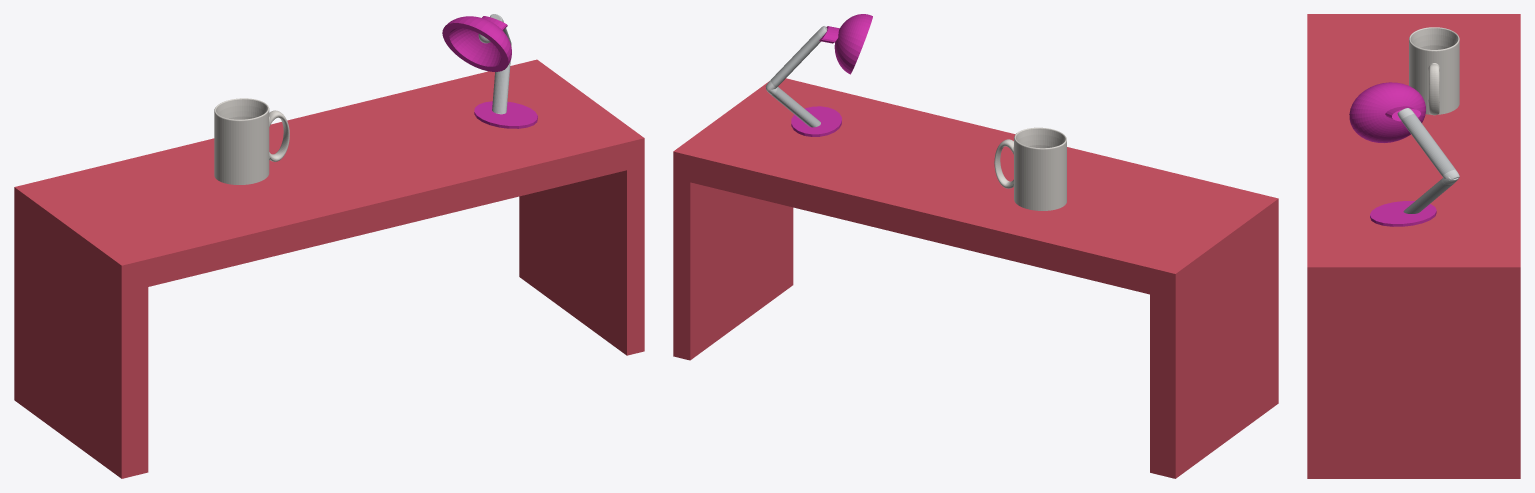
File: Shiny Lappi.glb
The picture shows the model from 3 angles, left to right: view 1: azimuth 30°, elevation 25°; view 2: azimuth 150°, elevation 25°; view 3: azimuth 270°, elevation 25°; orthographic projection. The views are drawn at different scales.
Parts seen in each view (by area): view 1: Mesh_Mesh_head_geo.001_lambert2SG.001; view 2: Mesh_Mesh_head_geo.001_lambert2SG.001; view 3: Mesh_Mesh_head_geo.001_lambert2SG.001.
Boxes of the visible parts, x1,y1,x2,y2 form: Mesh_Mesh_head_geo.001_lambert2SG.001: (14,14,644,478); Mesh_Mesh_head_geo.001_lambert2SG.001: (673,14,1278,478); Mesh_Mesh_head_geo.001_lambert2SG.001: (1307,14,1520,478).
Bounding box in the file's own units: 59 × 36 × 21.
